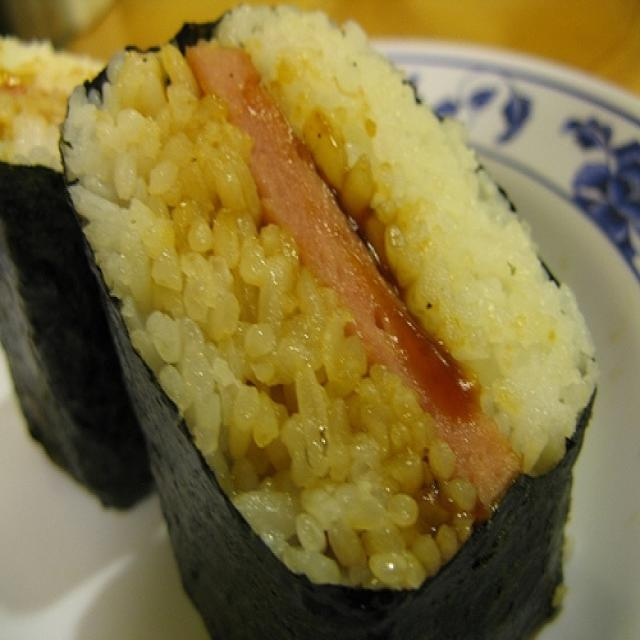寿司卷物: (12, 10, 616, 618)
